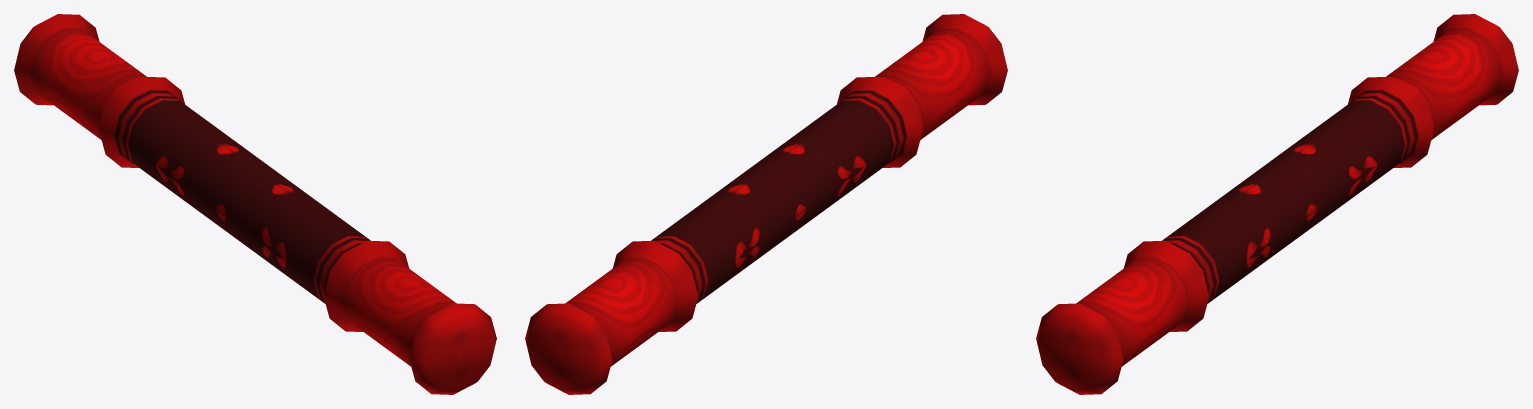
Rendered from M_MonkeymaceC.glb.
The picture shows the model from 3 angles, left to right: view 1: azimuth 30°, elevation 25°; view 2: azimuth 150°, elevation 25°; view 3: azimuth 330°, elevation 25°; orthographic projection.
Parts seen in each view (by area): view 1: SM_Monkeymace; view 2: SM_Monkeymace; view 3: SM_Monkeymace.
Boxes of the visible parts, x1,y1,x2,y2 form: SM_Monkeymace: (14,14,496,394); SM_Monkeymace: (525,14,1007,394); SM_Monkeymace: (1036,14,1518,394).
Size of the model in its own units: 0.0912 by 0.0912 by 0.7398.
1 material, 1 textured.
